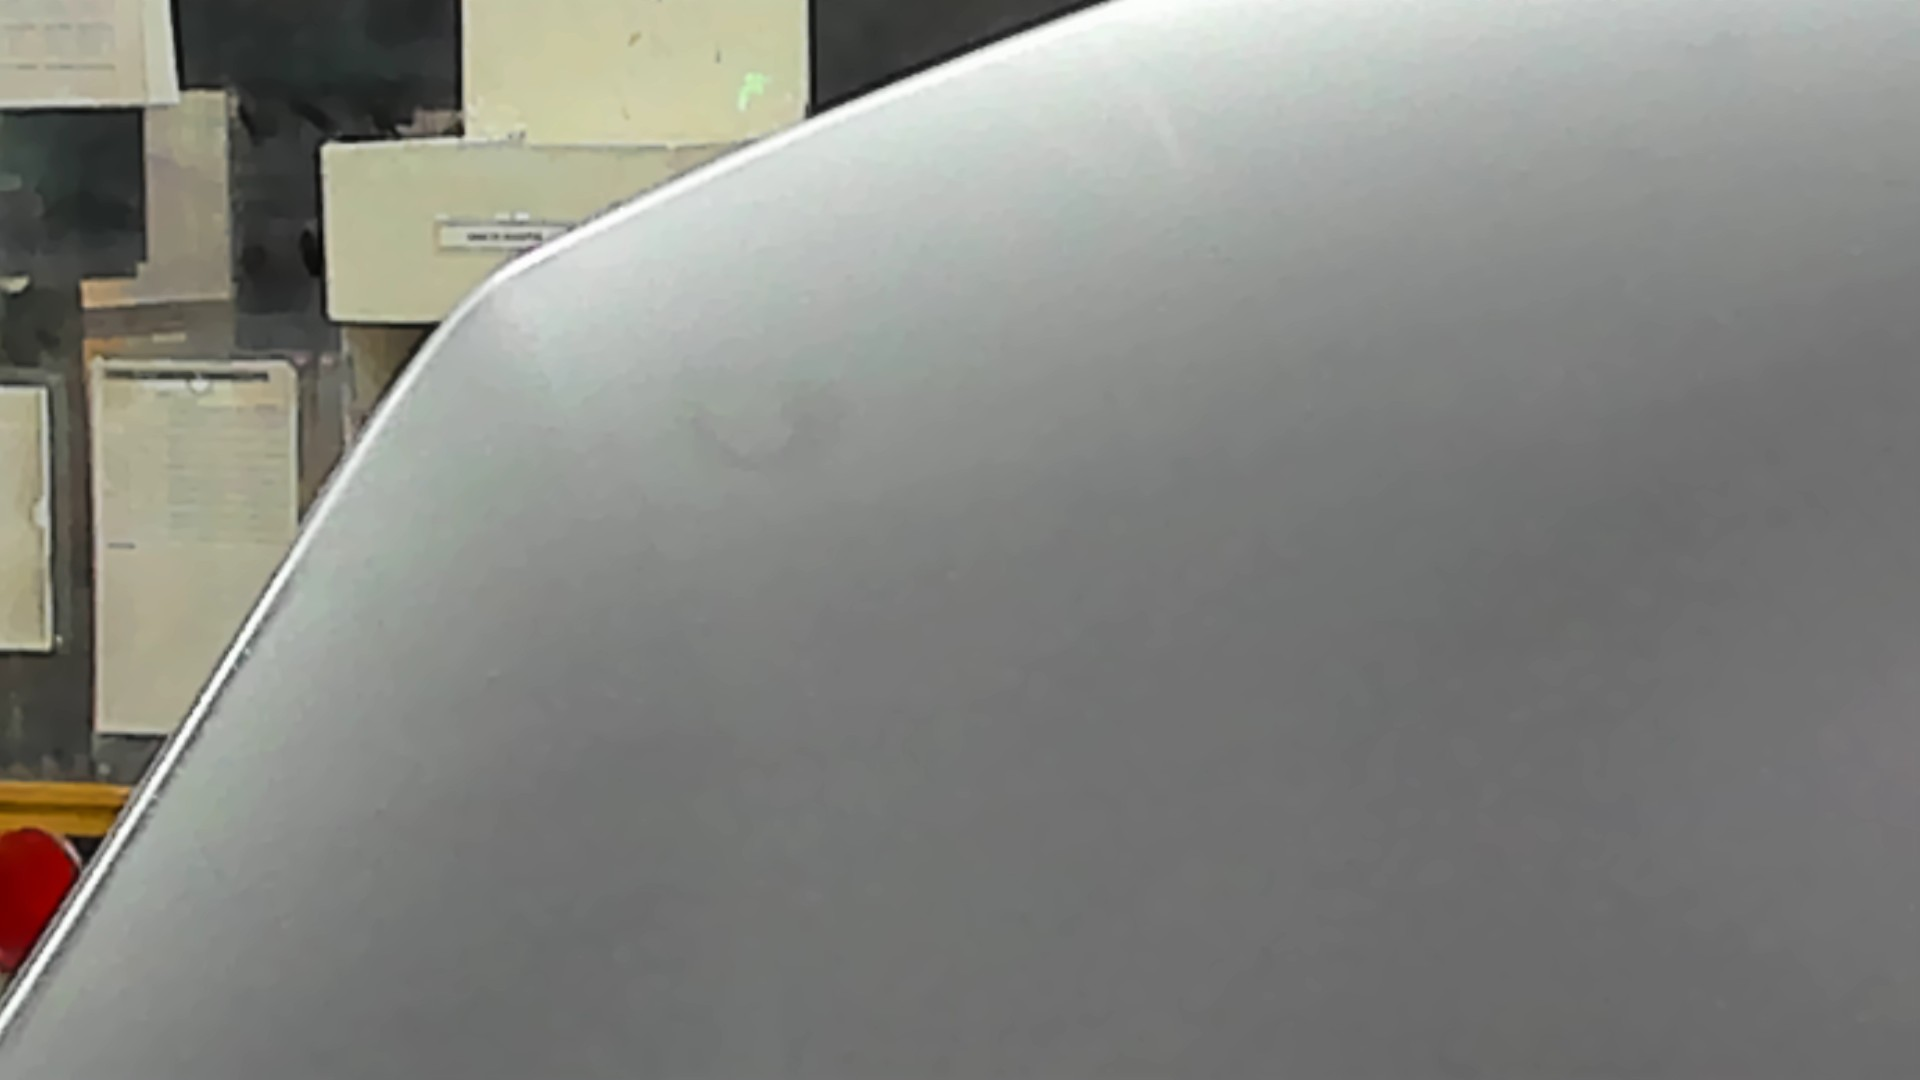capo: (686, 208, 1920, 1080)
